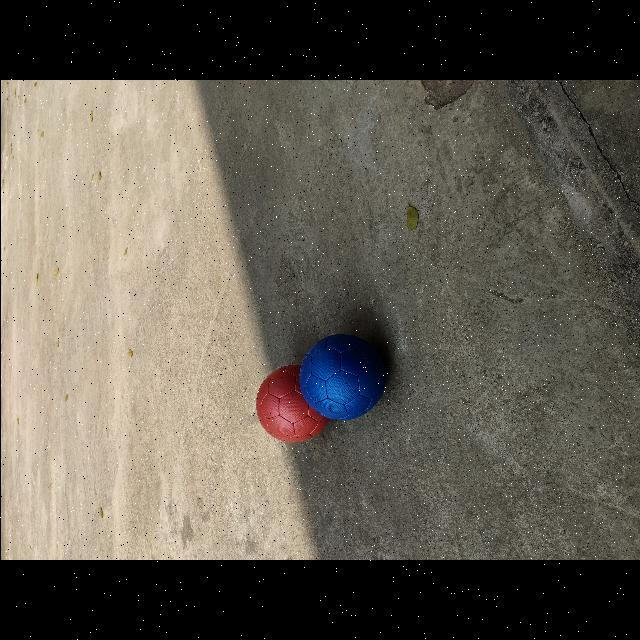B: (298, 334, 385, 421)
R: (256, 365, 328, 442)
